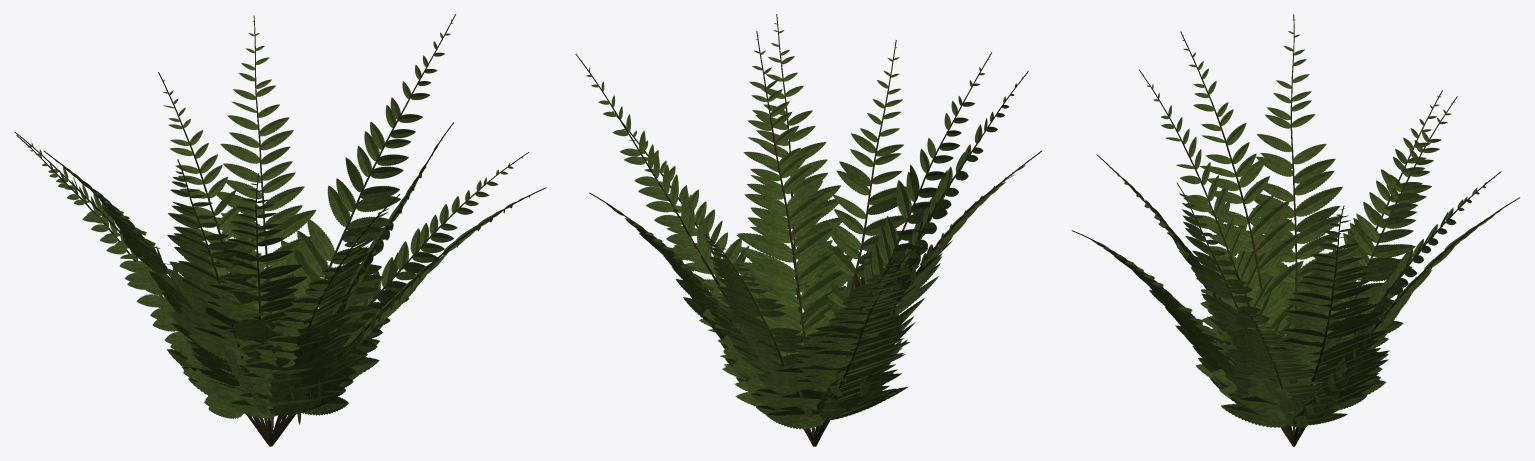
File: bracken_v01.glb
3 views of the same model, side by side, from view 1: azimuth 30°, elevation 25°; view 2: azimuth 150°, elevation 25°; view 3: azimuth 270°, elevation 25° (orthographic). The views are drawn at different scales.
Visible parts, largest first — view 1: bracken_v01; view 2: bracken_v01; view 3: bracken_v01.
Part boxes in pixels (box(x1,y1,x2,y2)): bracken_v01: box(14, 14, 546, 446); bracken_v01: box(575, 14, 1041, 446); bracken_v01: box(1071, 14, 1520, 446).
Bounding box in the file's own units: 1.67 × 1.28 × 1.51.
Materials: 2 (2 with a texture image).
